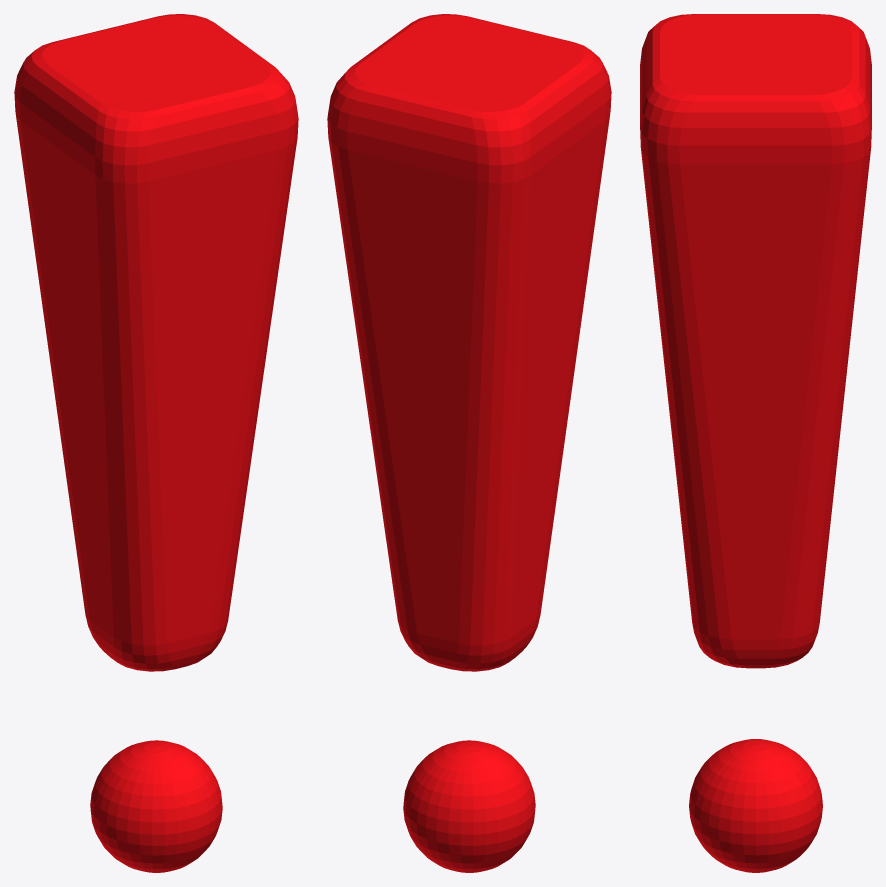
Rendered from exclamation_mark.glb.
The picture shows the model from 3 angles, left to right: view 1: azimuth 30°, elevation 25°; view 2: azimuth 150°, elevation 25°; view 3: azimuth 270°, elevation 25°; orthographic projection.
Size of the model in its own units: 1.91 by 7.38 by 1.91.
